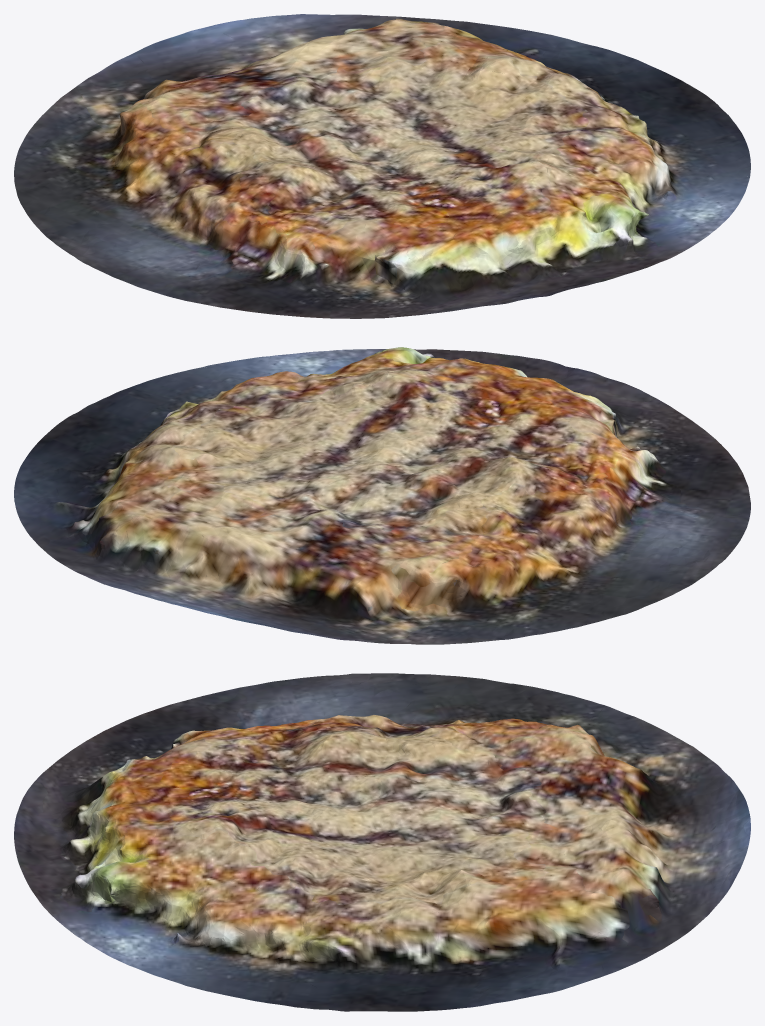
Rendered from non.glb.
3 renders of one model, top to bottom at view 1: azimuth 30°, elevation 25°; view 2: azimuth 150°, elevation 25°; view 3: azimuth 270°, elevation 25°, orthographic. The views are drawn at different scales.
Parts seen in each view (by area): view 1: mesh; view 2: mesh; view 3: mesh.
Boxes of the visible parts, x1=… form: mesh: x1=14, y1=14, x2=750, y2=318; mesh: x1=14, y1=347, x2=750, y2=644; mesh: x1=14, y1=673, x2=750, y2=1011.
Bounding box in the file's own units: 0.22 × 0.0177 × 0.207.
Materials: 1 (1 with a texture image).
